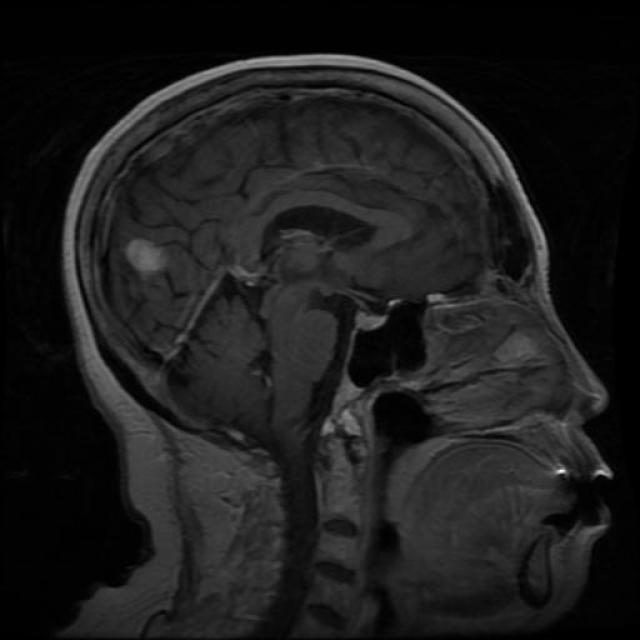meningioma: (126, 239, 169, 272)
